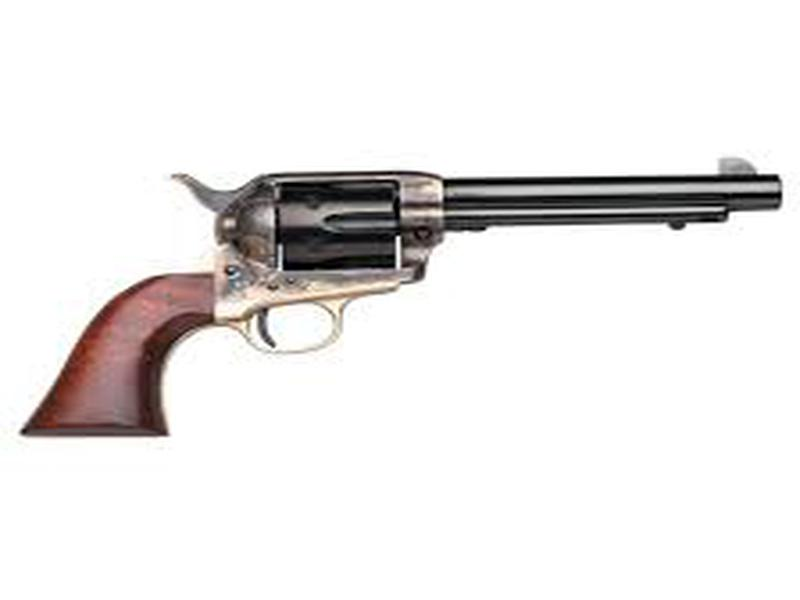gun: (12, 155, 789, 439)
